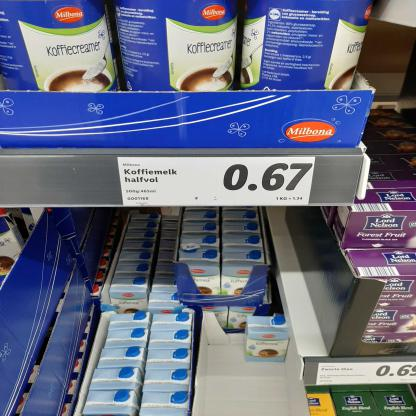prtg: (118, 157, 316, 207)
